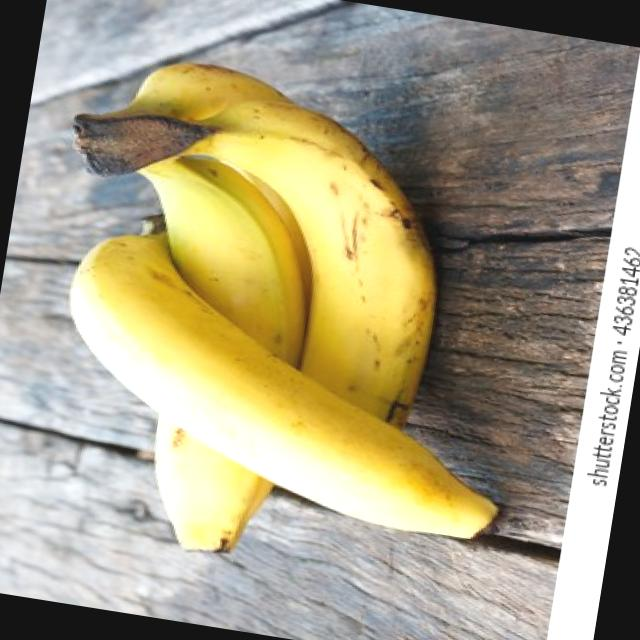banana: (3, 42, 474, 586), (39, 198, 549, 548)
